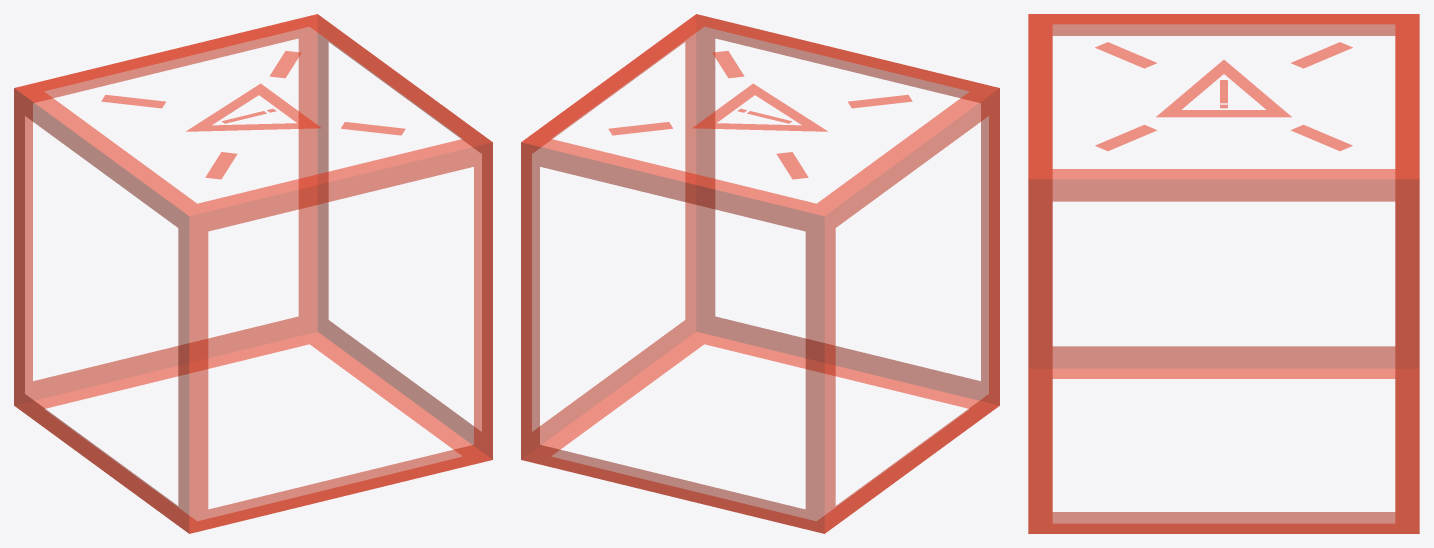
The model's file is Enemy_spawn.glb.
3 views of the same model, side by side, from view 1: azimuth 30°, elevation 25°; view 2: azimuth 150°, elevation 25°; view 3: azimuth 270°, elevation 25° (orthographic). The views are drawn at different scales.
Visible parts, largest first — view 1: Cube, Plane; view 2: Cube, Plane; view 3: Cube, Plane, Plane.001, Plane.004, Plane.002, Plane.003.
Part boxes in pixels (x1=…): Cube: x1=14, y1=14, x2=492, y2=533; Plane: x1=186, y1=83, x2=321, y2=131; Cube: x1=521, y1=14, x2=999, y2=533; Plane: x1=692, y1=83, x2=827, y2=131; Cube: x1=1028, y1=14, x2=1419, y2=533; Plane: x1=1156, y1=60, x2=1291, y2=117; Plane.001: x1=1291, y1=42, x2=1352, y2=68; Plane.004: x1=1095, y1=42, x2=1156, y2=68; Plane.002: x1=1291, y1=125, x2=1352, y2=150; Plane.003: x1=1095, y1=125, x2=1156, y2=150.
Size of the model in its own units: 2 by 2 by 2.
